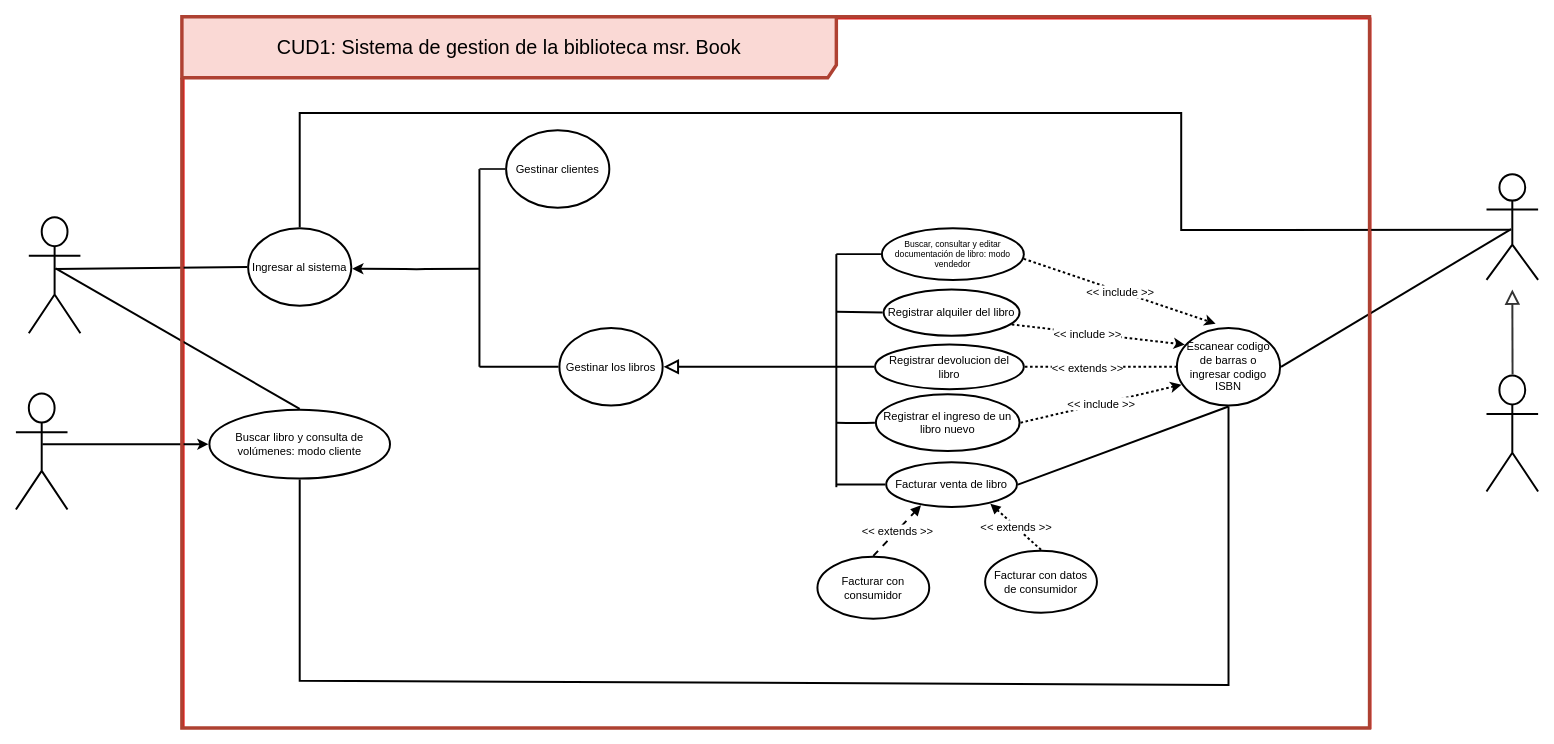
Some shapes in this 1554 by 744 pixel diagram are drawn without their labels. The shapes that lost their labels are listed below. From the top down, each one's box as (x1, y1, x2, y2) in pixels, then its label:
(1485, 173, 1539, 281): sistema
(27, 216, 81, 334): Vendedor
(15, 392, 68, 510): compardor
(1485, 374, 1539, 492): Scanner
